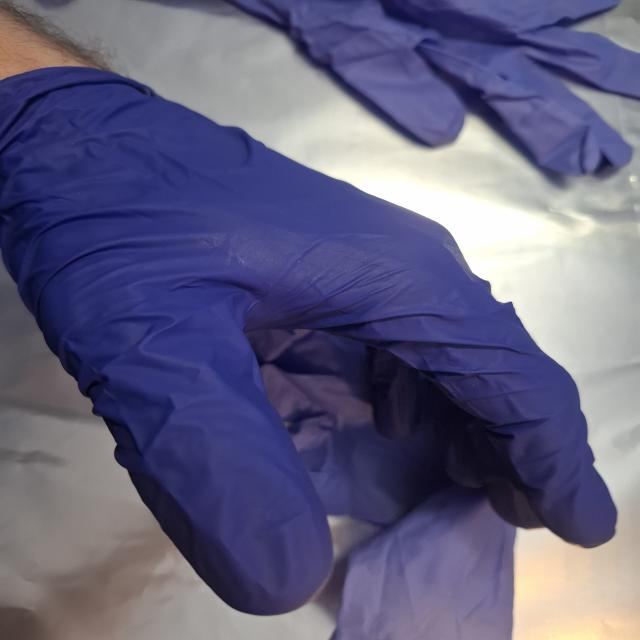glove_on: (0, 63, 623, 619)
